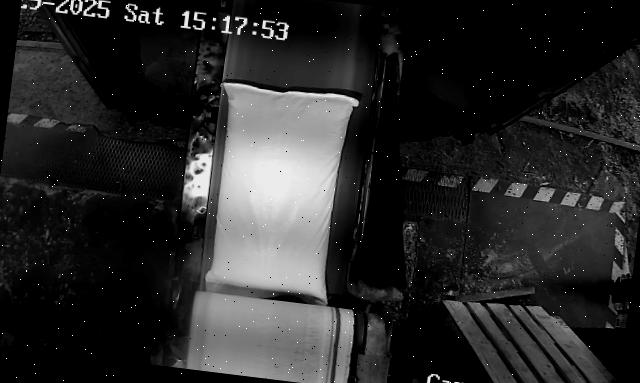bag: (196, 79, 359, 306)
